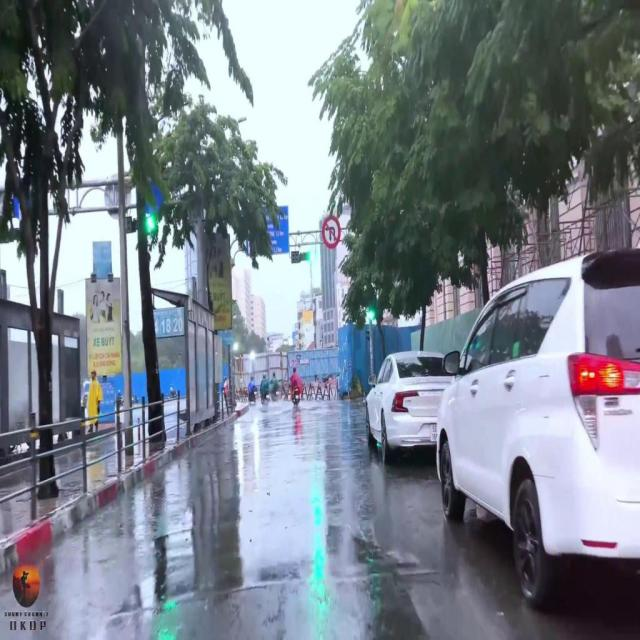khac: (321, 210, 341, 248)
